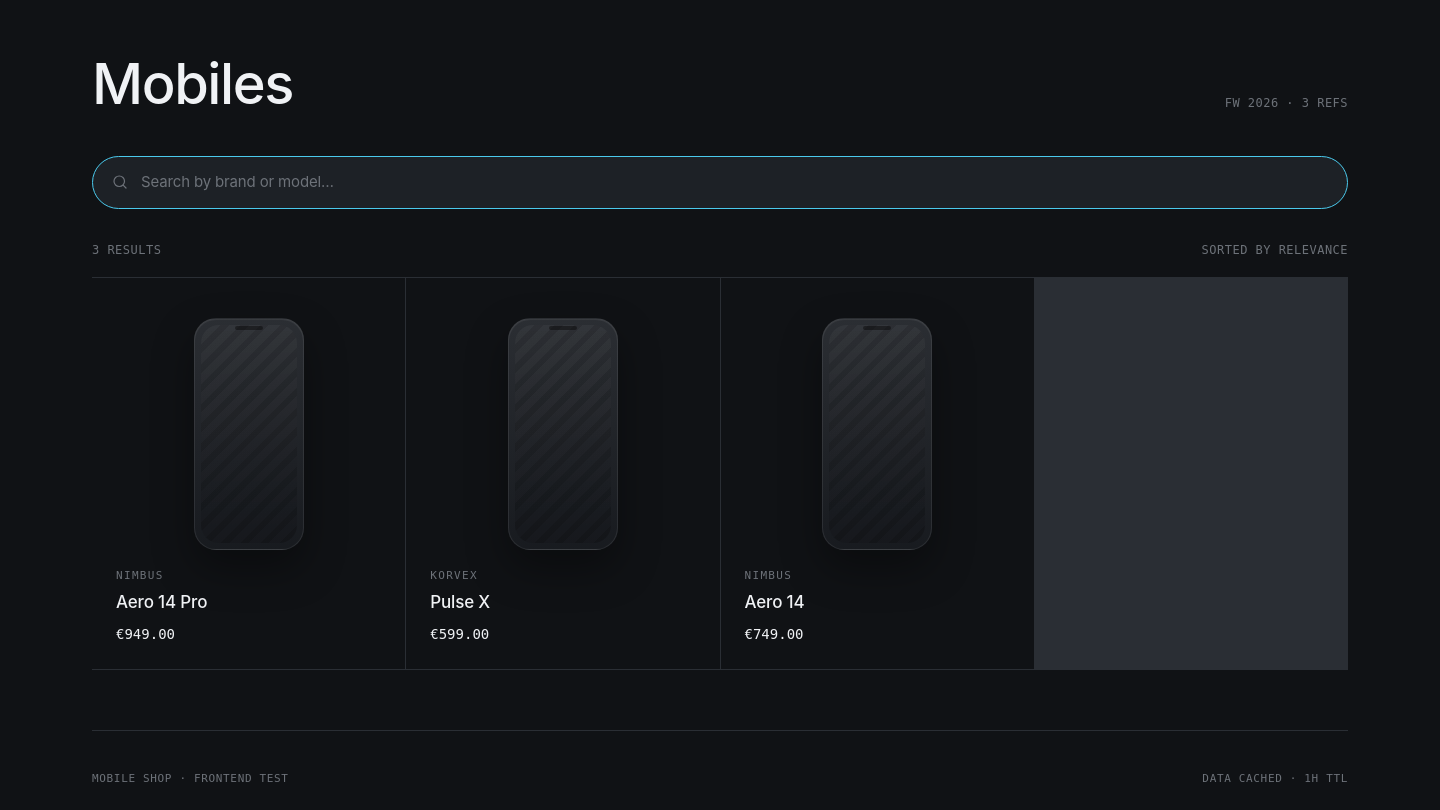
Test: PLP › updates the result counter when filtering
Type "Nimbus" into the search field.
click(735, 182); type("Nimbus")  # box [141, 171, 1329, 194]
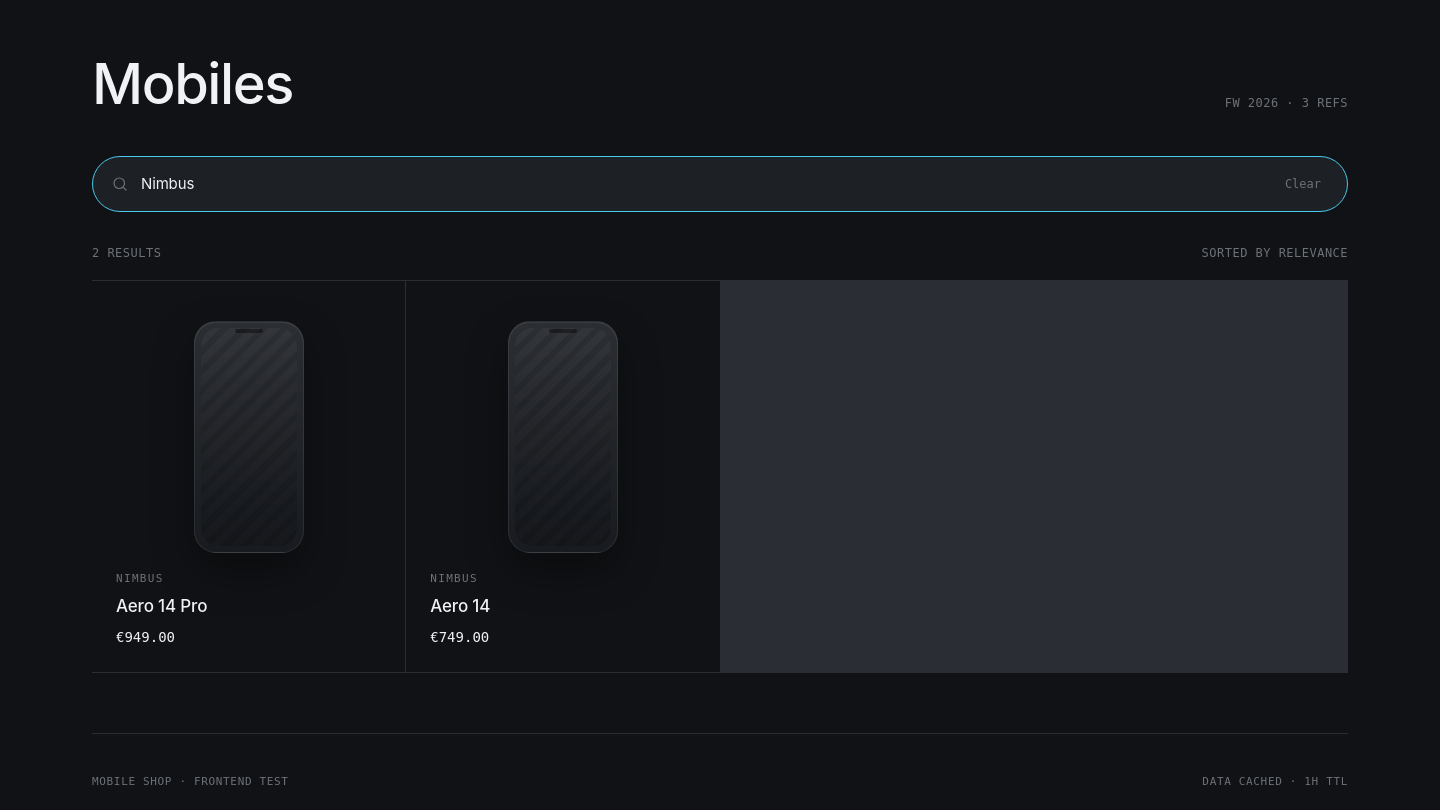
Now the text "2 RESULTS" is shown, box [92, 244, 161, 262]
